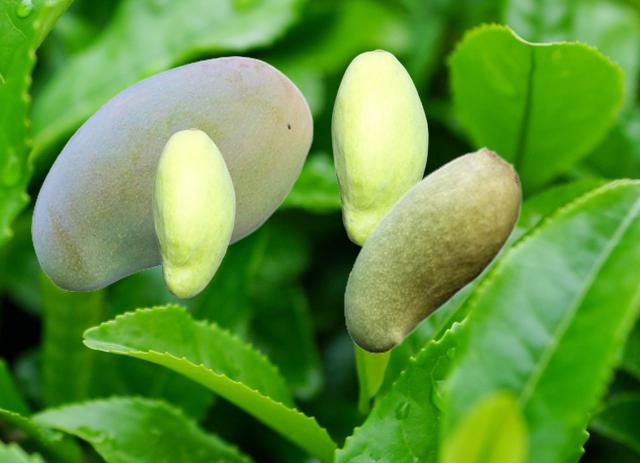green_mango: (31, 56, 313, 290), (343, 146, 521, 352), (331, 49, 427, 246), (152, 128, 234, 297)
